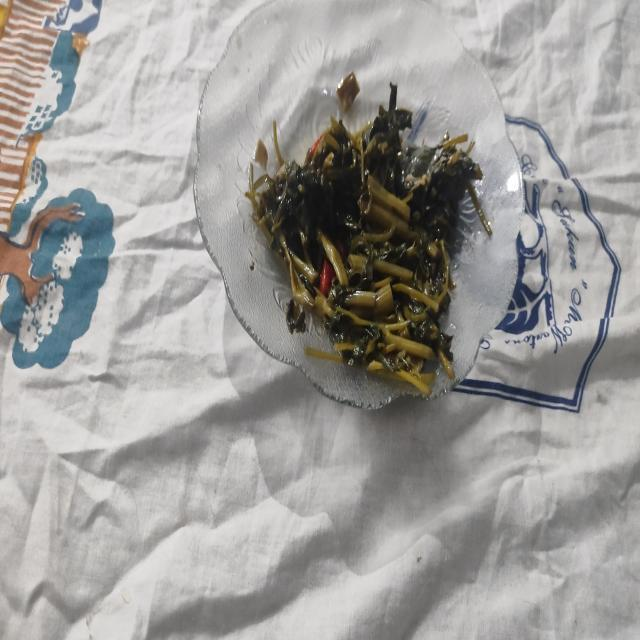tumis_kangkung: (254, 82, 484, 396)
